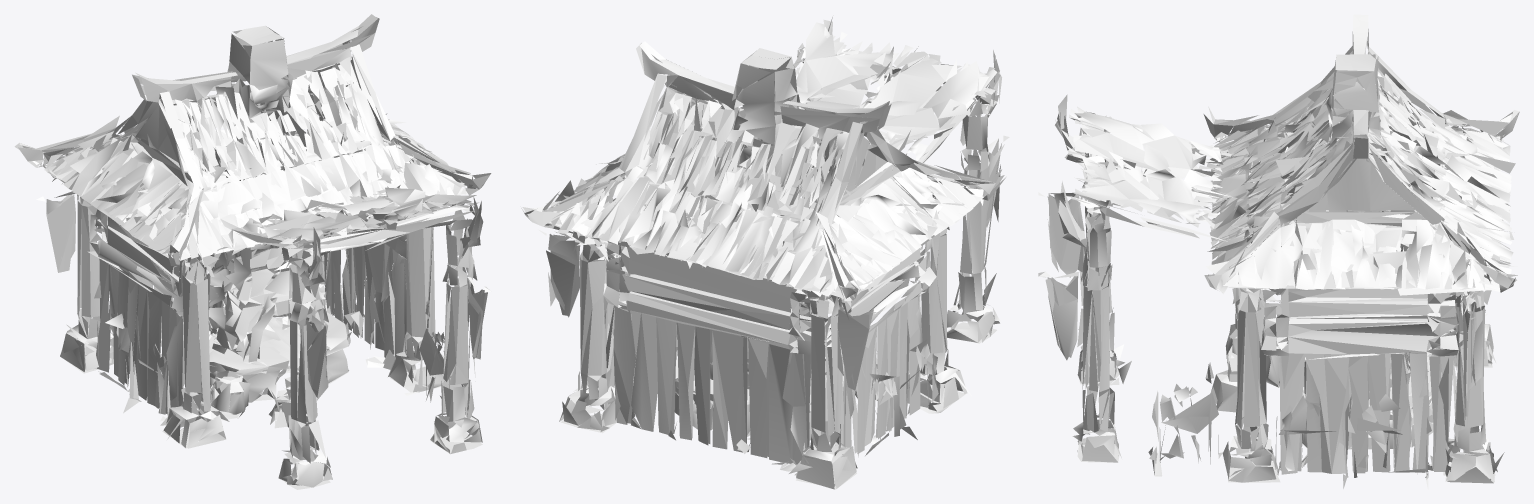
Rendered from forge_smithy_lod1.glb.
3 views of the same model, side by side, from view 1: azimuth 30°, elevation 25°; view 2: azimuth 150°, elevation 25°; view 3: azimuth 270°, elevation 25° (orthographic). The views are drawn at different scales.
Visible parts, largest first — view 1: forge_smithy; view 2: forge_smithy; view 3: forge_smithy.
Boxes of the visible parts, x1,y1,x2,y2 form: forge_smithy: (14,14,491,489); forge_smithy: (521,17,1009,489); forge_smithy: (1038,14,1519,489).
Size of the model in its own units: 9.31 by 9.14 by 11.1.
Materials: 1 (1 with a texture image).
